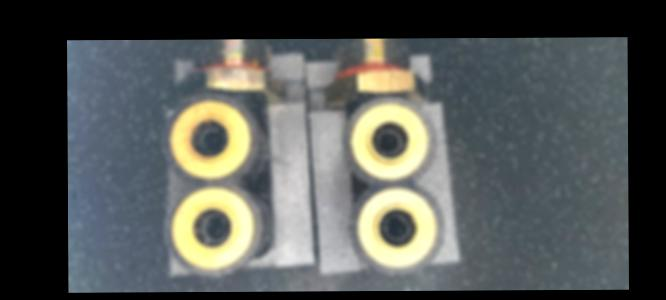off-centered: (379, 210, 413, 245), (198, 210, 230, 244)
